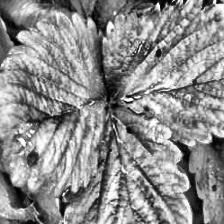Leaf Spot: (0, 9, 110, 198), (101, 0, 224, 147), (61, 105, 193, 224), (187, 133, 224, 224)
